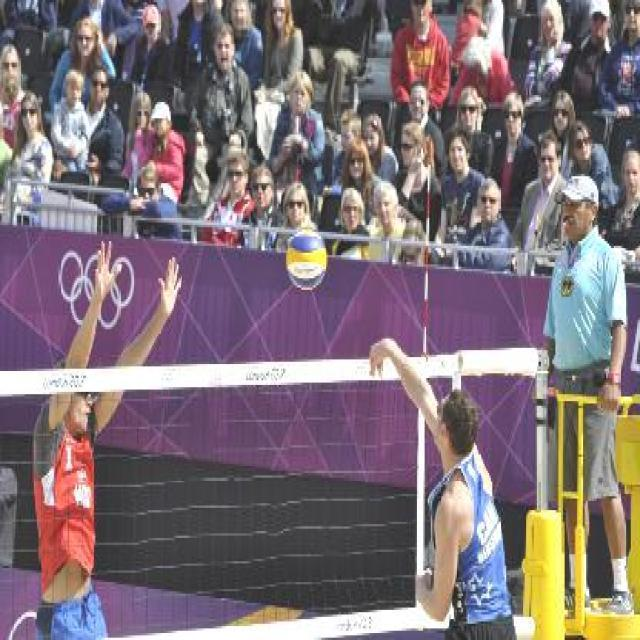volleyball: (286, 230, 328, 290)
